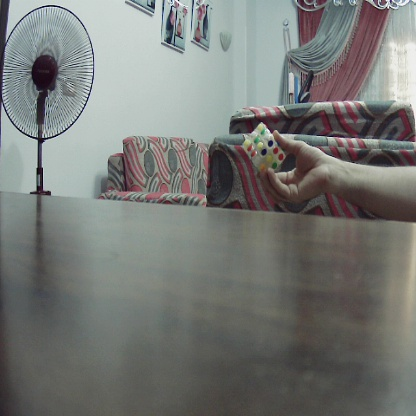Rubix Cube: (244, 124, 287, 175)
